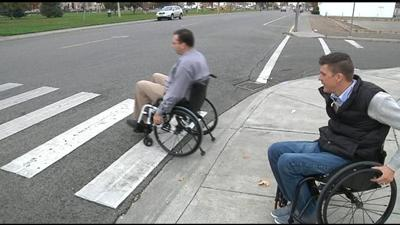person: (267, 52, 396, 173), (135, 28, 209, 106)
